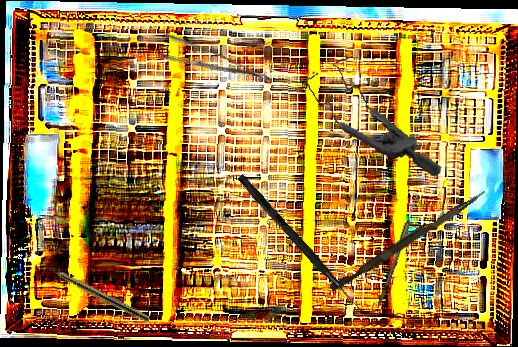Dressing Forceps: (155, 30, 273, 101)
Handpiece: (37, 259, 152, 324)
Hook Surgical: (235, 174, 367, 314)
Pusher: (329, 184, 487, 296)
Speculum: (292, 50, 457, 179)
Surgical Spoon: (377, 191, 421, 307)
